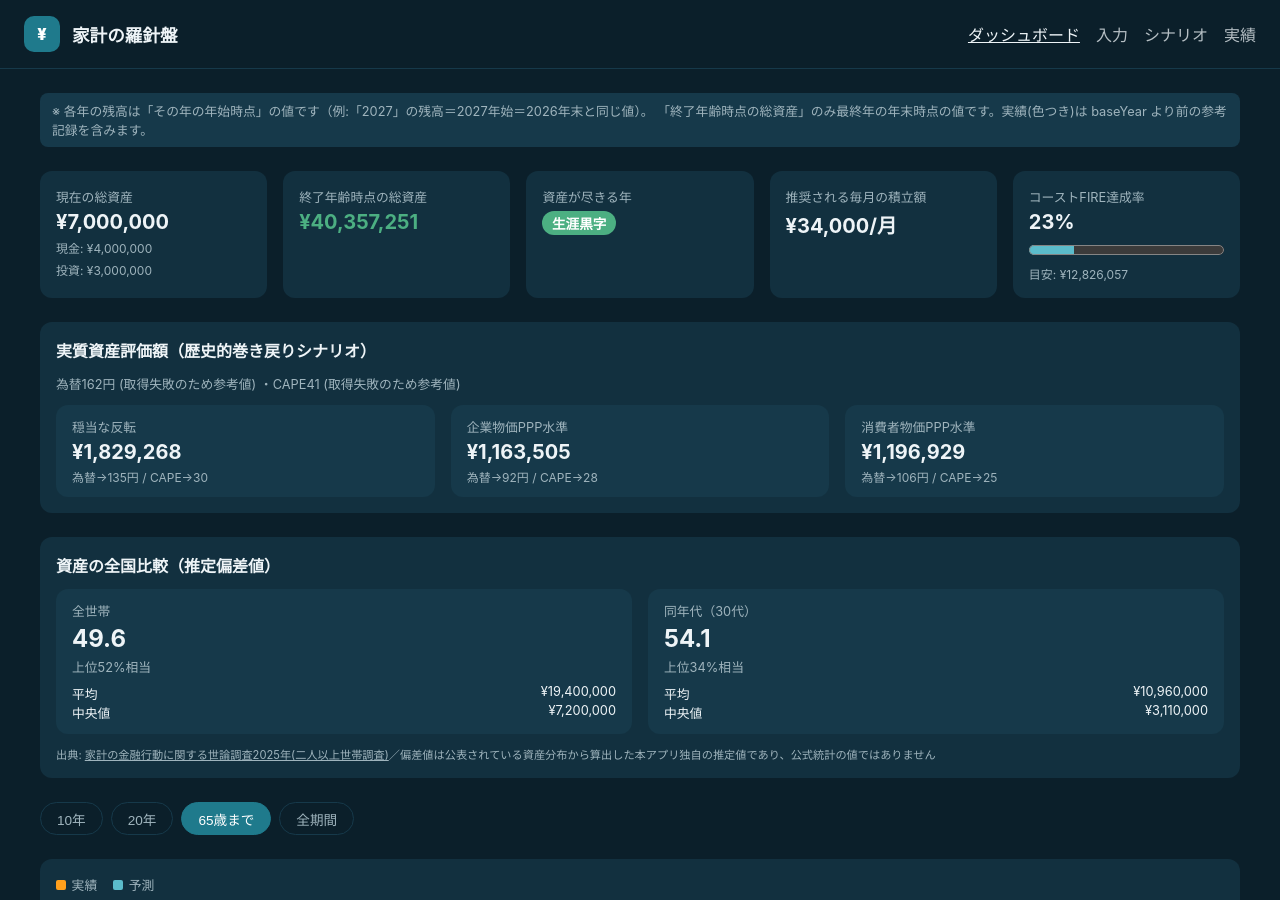
Scenario: App › navigates to the input page via the header link
The width and height of the screenshot is (1280, 900).
Expected: the text "現在の総資産" is shown, [56,190,133,205]
Click the link "入力".
click(1112, 34)  # box [1096,22,1128,46]
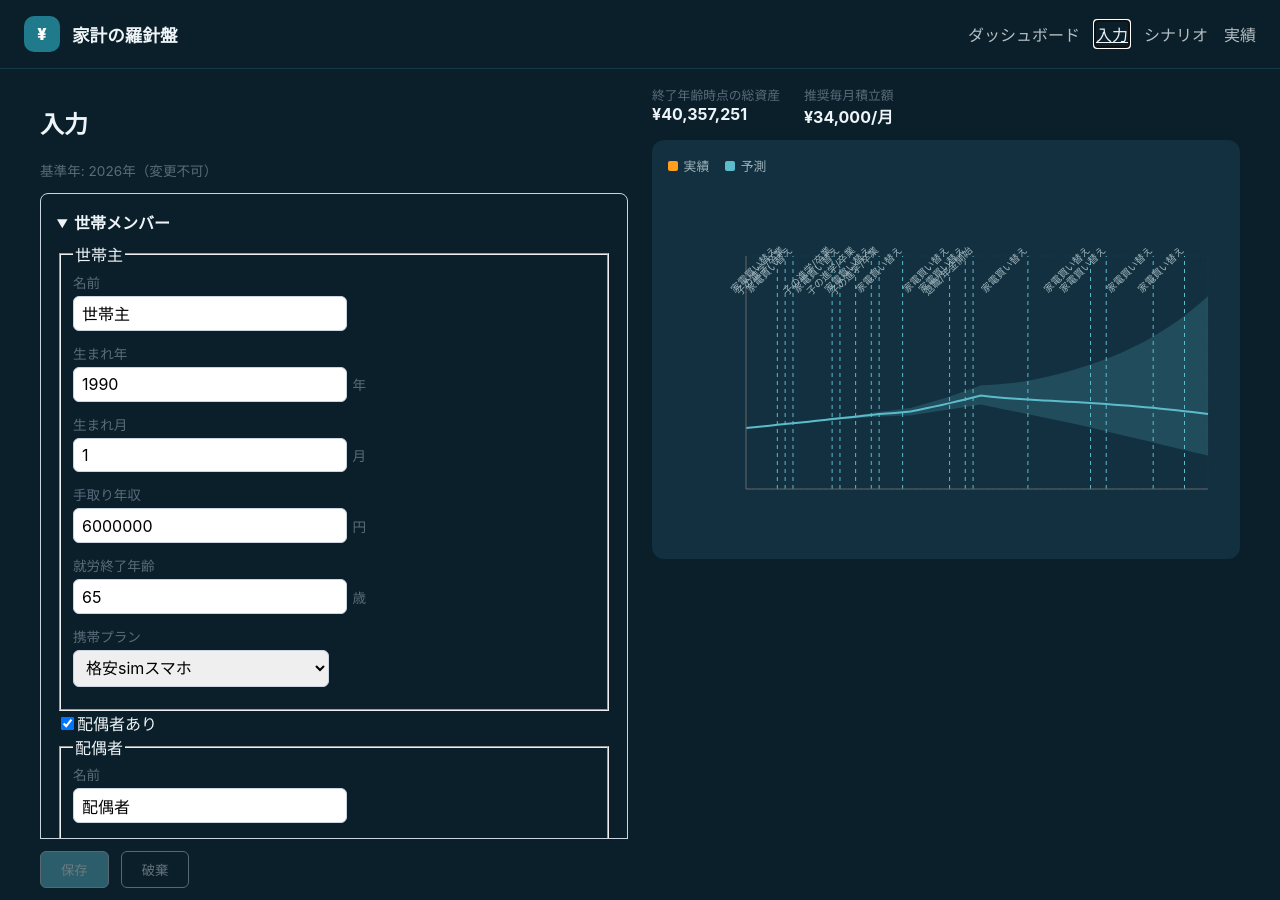
Expected: the heading "入力" is shown, [40,110,88,139]
